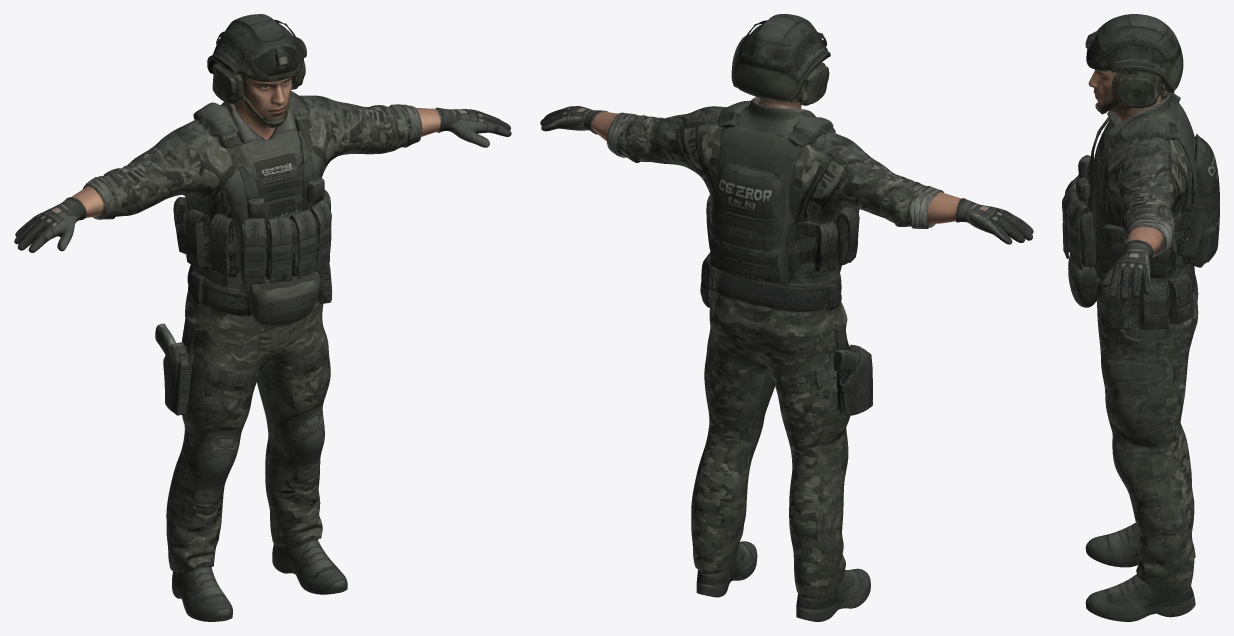
The model's file is character_2.glb.
The picture shows the model from 3 angles, left to right: view 1: azimuth 30°, elevation 25°; view 2: azimuth 150°, elevation 25°; view 3: azimuth 270°, elevation 25°; orthographic projection.
Parts seen in each view (by area): view 1: mesh_0; view 2: mesh_0; view 3: mesh_0.
Boxes of the visible parts, bbox=[...] form: mesh_0: bbox=[14, 14, 511, 621]; mesh_0: bbox=[540, 14, 1033, 621]; mesh_0: bbox=[1062, 14, 1219, 621].
Size of the model in its own units: 1.7 by 1.9 by 0.4781.
Materials: 1 (1 with a texture image).
